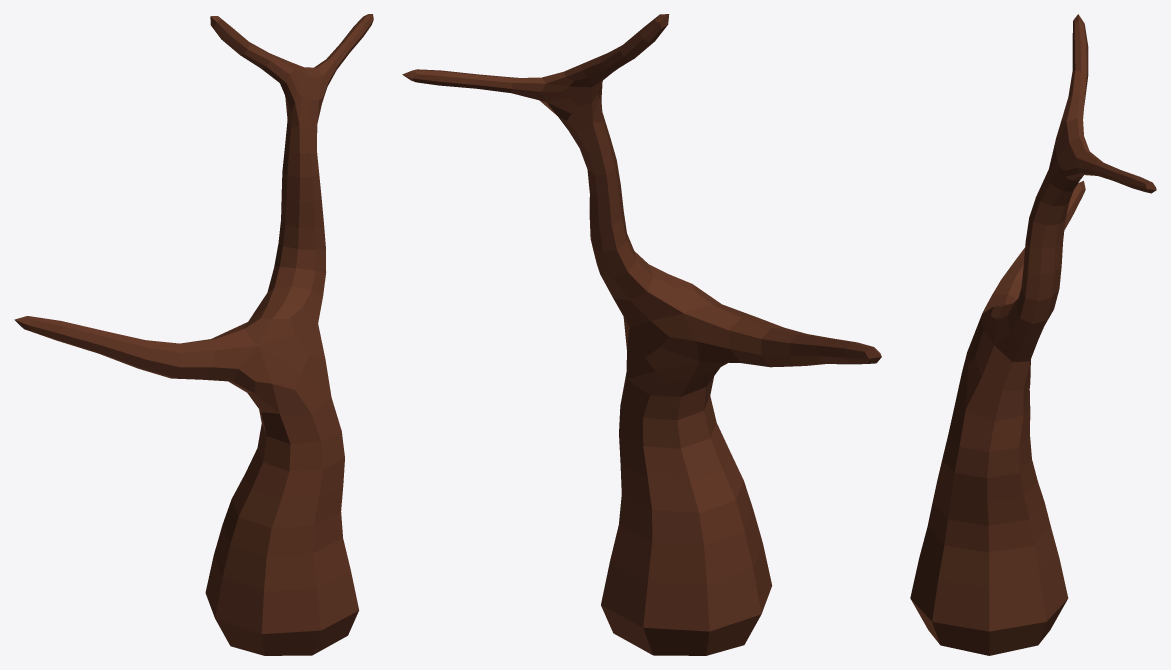
The model's file is snowytree2_export.fbx.
3 views of the same model, side by side, from view 1: azimuth 30°, elevation 25°; view 2: azimuth 150°, elevation 25°; view 3: azimuth 270°, elevation 25° (orthographic). The views are drawn at different scales.
Parts seen in each view (by area): view 1: Plane.002; view 2: Plane.002; view 3: Plane.002.
Part boxes in pixels (x1,y1,x2,y2): Plane.002: (14, 14, 373, 655); Plane.002: (402, 14, 881, 655); Plane.002: (910, 14, 1156, 655).
Size of the model in its own units: 5.43 by 7.94 by 2.89.
